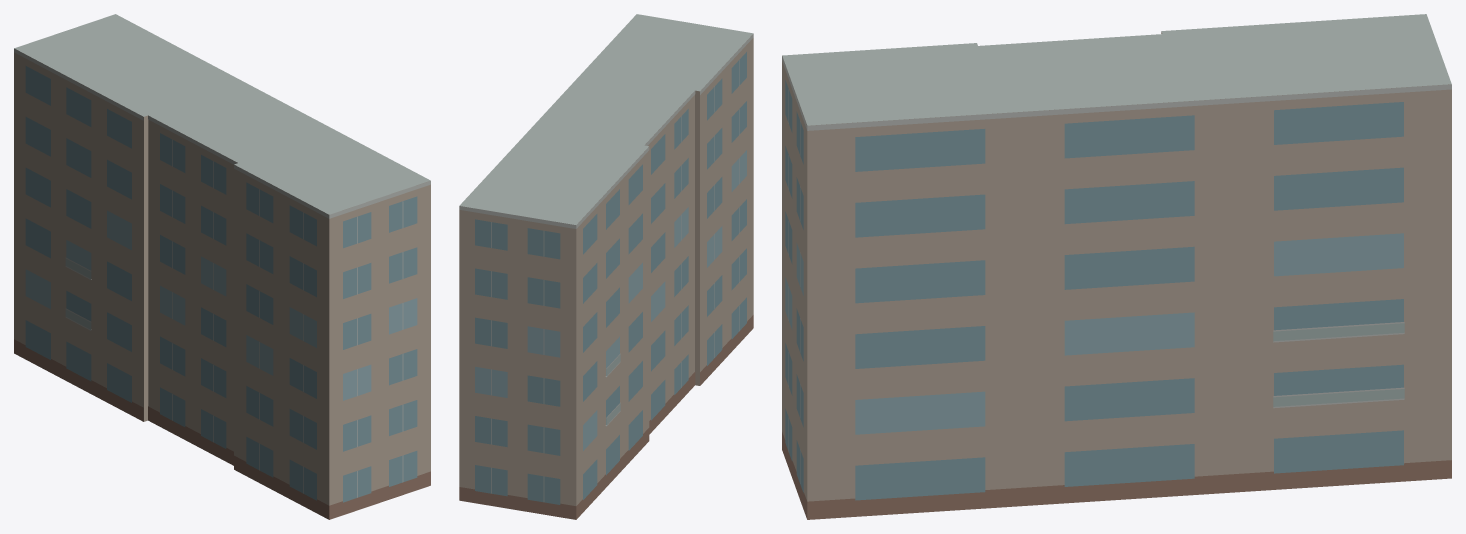
Rendered from survey-upis-33004698.glb.
3 renders of one model, left to right at view 1: azimuth 30°, elevation 25°; view 2: azimuth 150°, elevation 25°; view 3: azimuth 270°, elevation 25°, orthographic. The views are drawn at different scales.
Parts seen in each view (by area): view 1: survey-upis-33004698.tmp; view 2: survey-upis-33004698.tmp; view 3: survey-upis-33004698.tmp.
Boxes of the visible parts, left/top/right/bottom form: survey-upis-33004698.tmp: left=14, top=14, right=430, bottom=519; survey-upis-33004698.tmp: left=459, top=14, right=753, bottom=519; survey-upis-33004698.tmp: left=782, top=14, right=1451, bottom=519.
Bounding box in the file's own units: 11.13 × 18.3 × 28.19.
